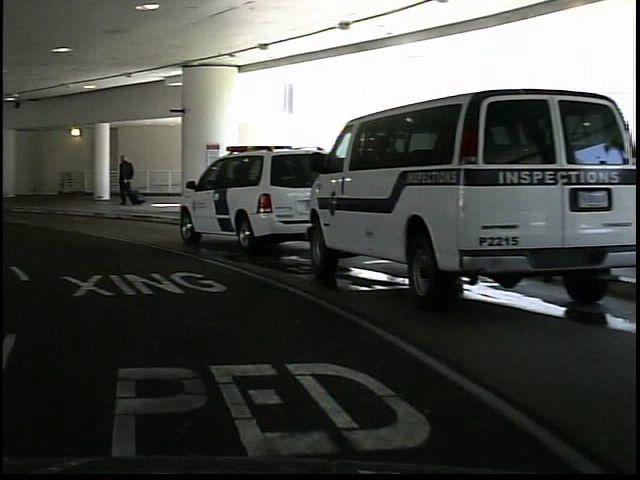person: (113, 150, 137, 209)
